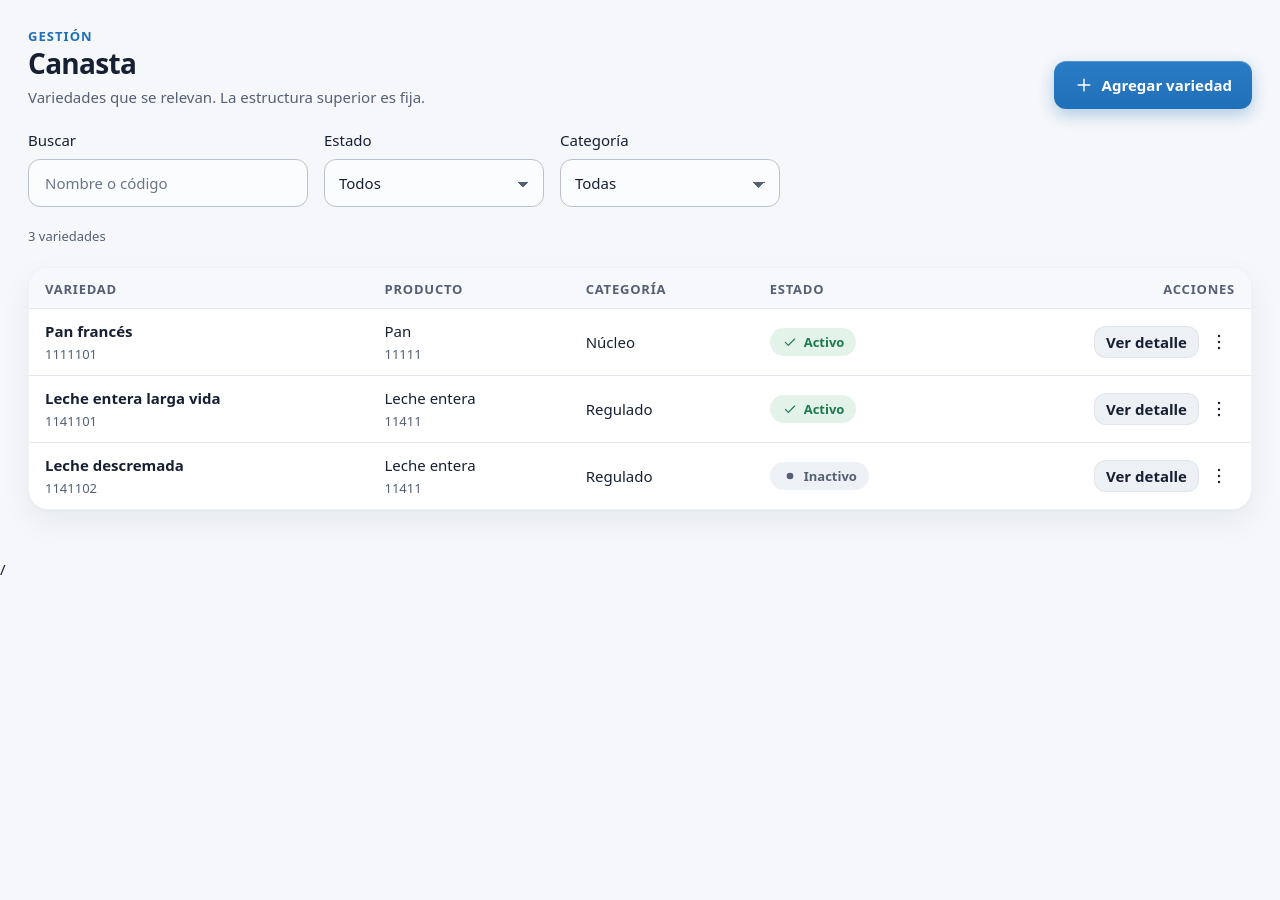
logical removal › shows a 404 as a dialog error
Click the button named "más acciones".
click(1219, 342)  # box [1203, 326, 1235, 358]
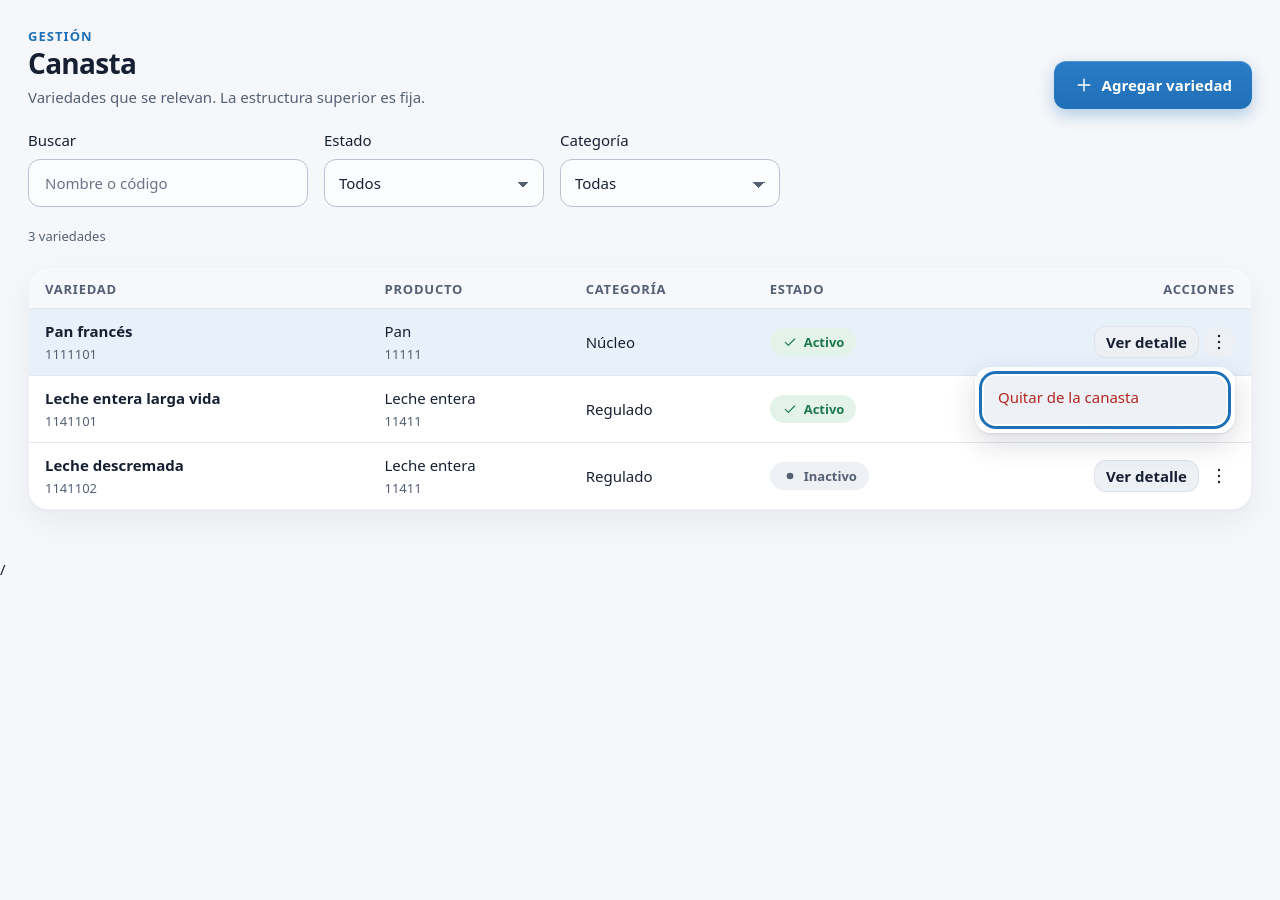
Click the menu item "Quitar de la canasta".
click(1105, 400)  # box [984, 376, 1226, 424]
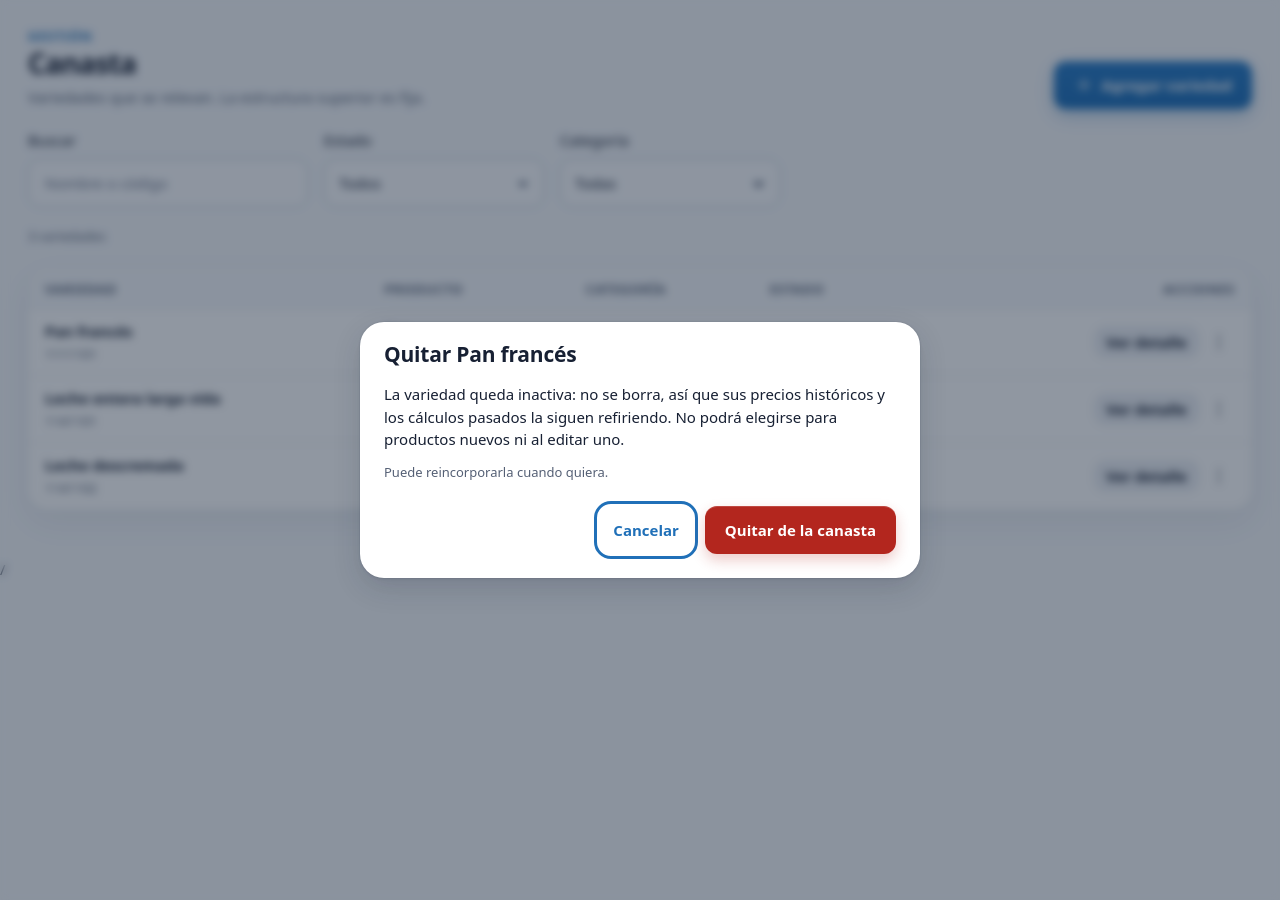
Click the button "Quitar de la canasta".
click(800, 530)  # box [705, 506, 896, 554]
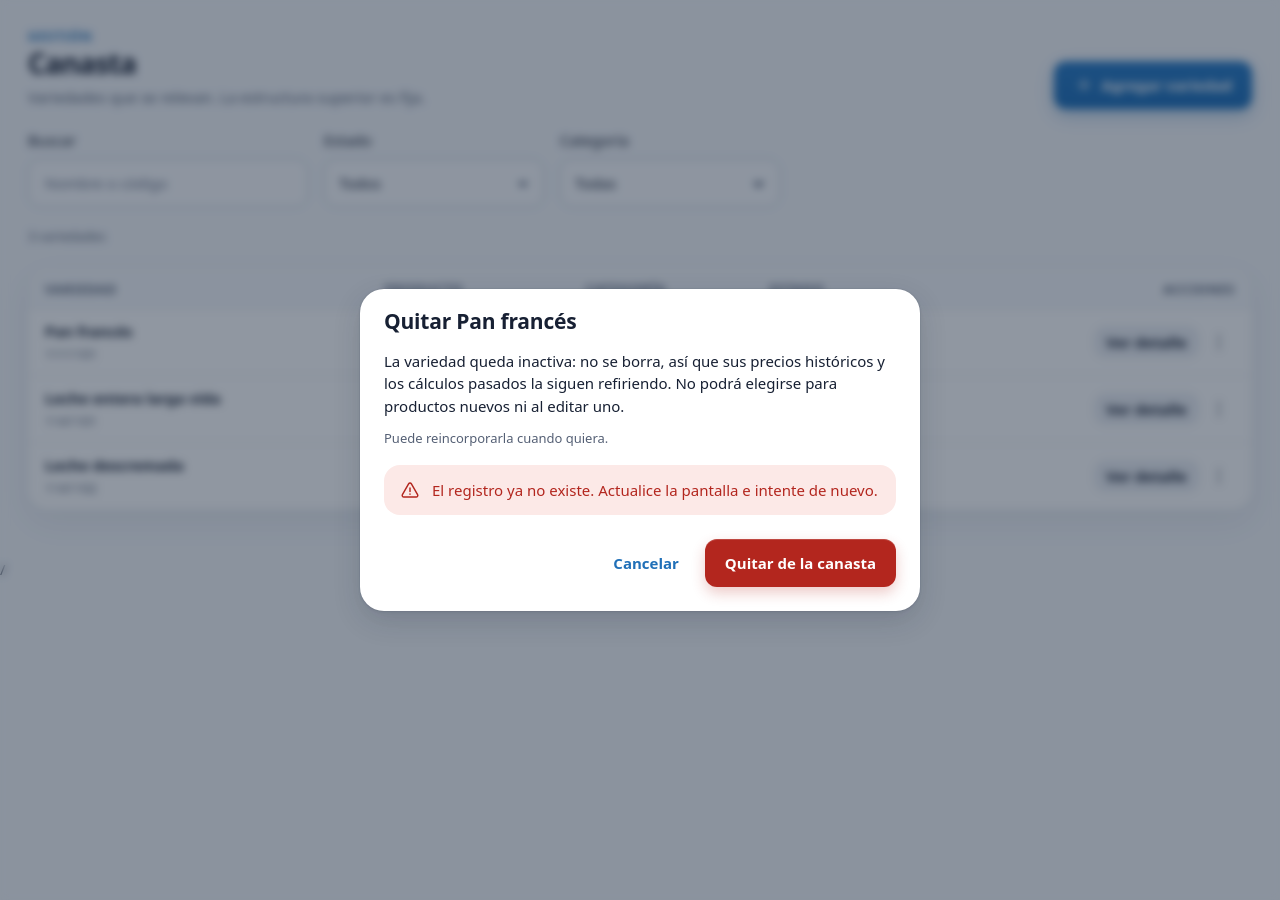
Check: the message shows "ya no existe", box [432, 480, 878, 500]
